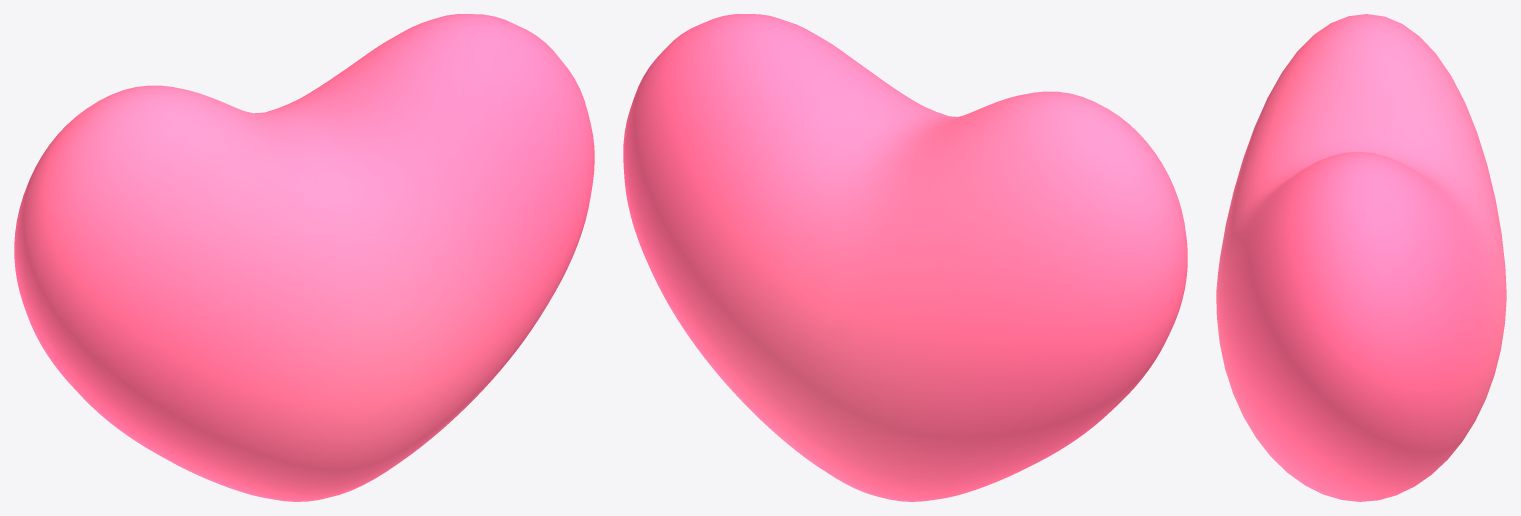
File: heart-rounded-v24-pink.glb
3 views of the same model, side by side, from view 1: azimuth 30°, elevation 25°; view 2: azimuth 150°, elevation 25°; view 3: azimuth 270°, elevation 25° (orthographic). The views are drawn at different scales.
Visible parts, largest first — view 1: Heart_Glass; view 2: Heart_Glass; view 3: Heart_Glass.
Part boxes in pixels (box(x1,y1,x2,y2)): Heart_Glass: box(14, 14, 594, 501); Heart_Glass: box(623, 14, 1187, 501); Heart_Glass: box(1216, 14, 1506, 501).
Size of the model in its own units: 0.0832 by 0.0628 by 0.0416.
Materials: 1 (1 with a texture image).
